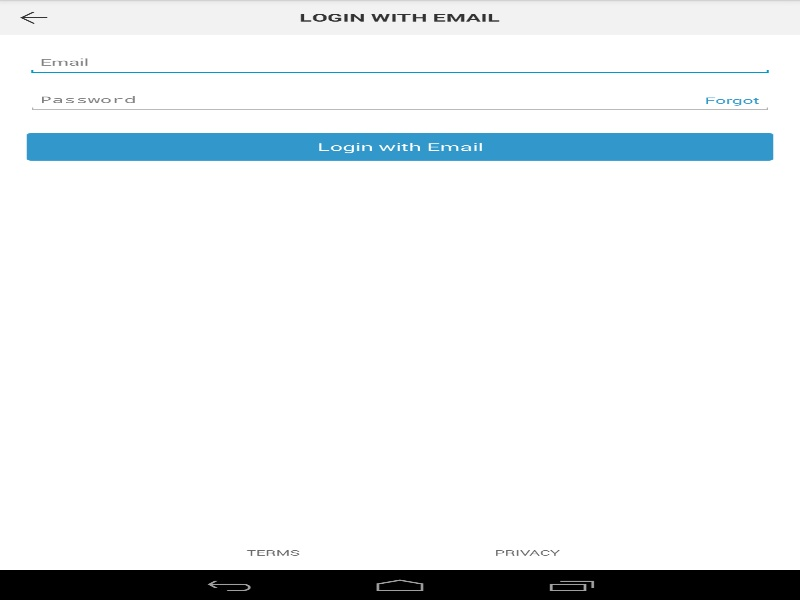Button: (26, 133, 773, 160), (413, 545, 640, 560), (160, 545, 386, 560), (0, 0, 66, 35)
Input: (26, 50, 773, 75), (26, 87, 773, 112)
